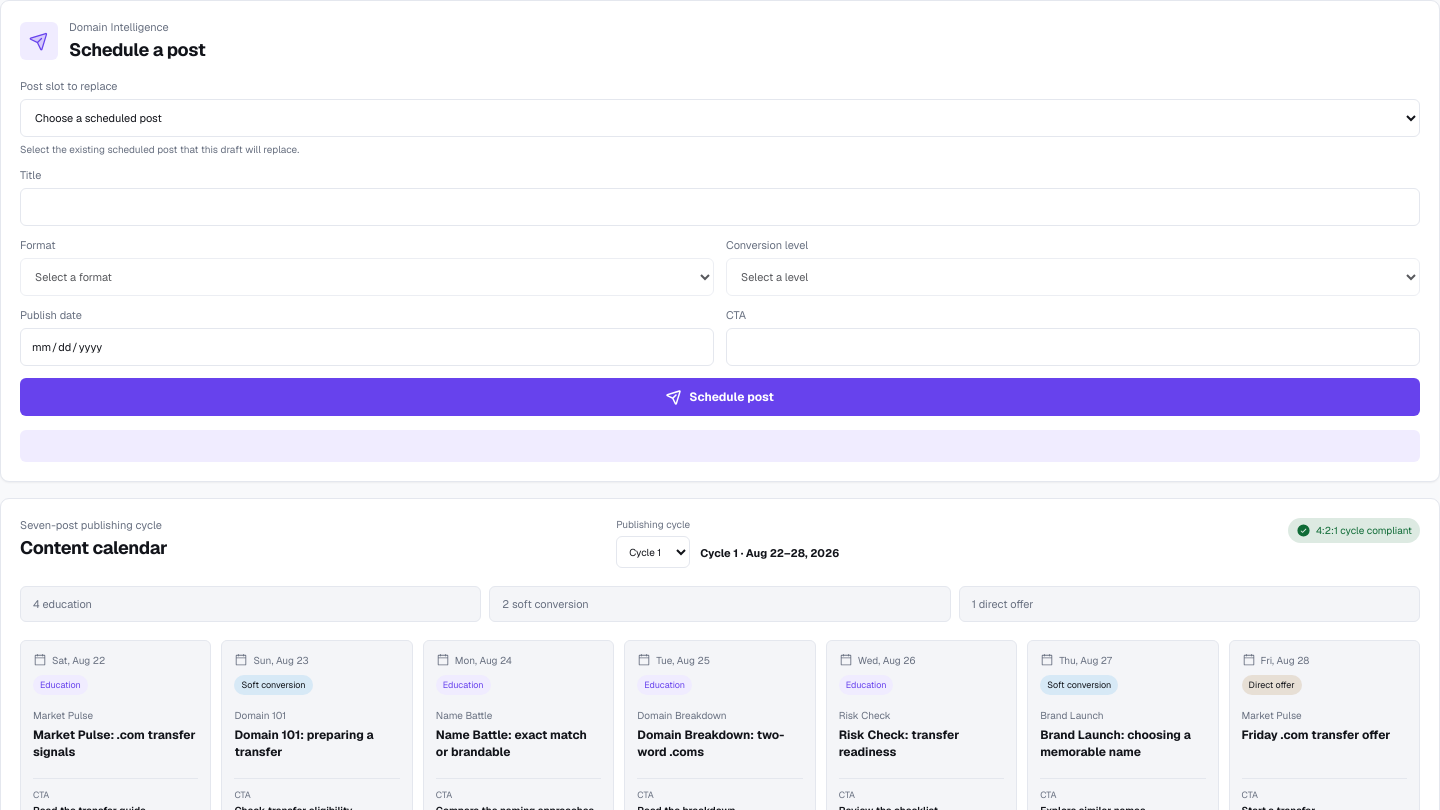
refreshes the calendar from provider state after an editor update
Select "Cycle 1 · Slot 1 · Aug 22, 2026 · Market Pulse: .com transfer signals" in the dropdown labelled "Post slot to replace" at x=720, y=118, box x1=20 y1=99 x2=1420 y2=137
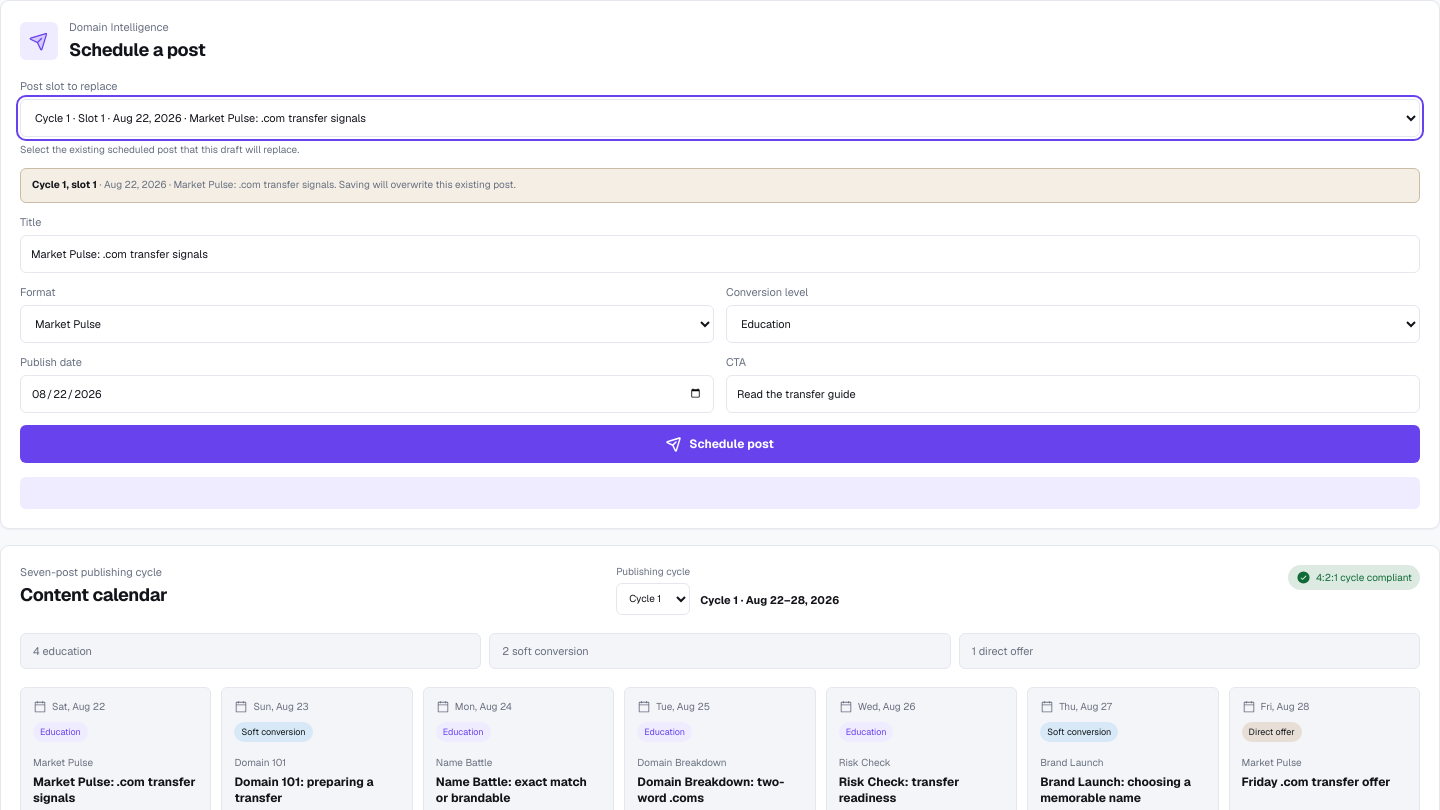
Replace the text in the field labelled "Title" with "Updated primary slot" at x=720, y=254, box x1=20 y1=234 x2=1420 y2=272
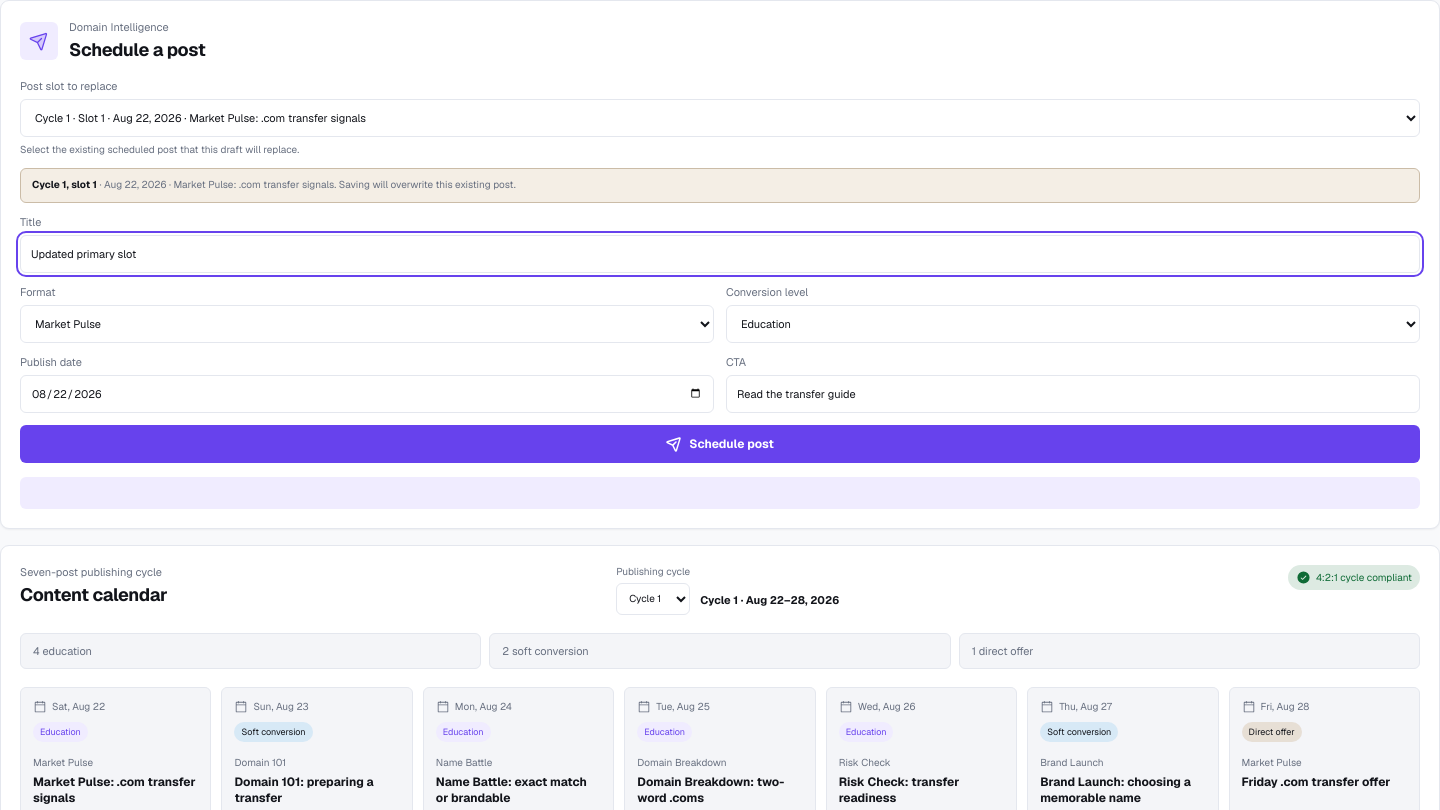
Click the button "Schedule post".
click(720, 444)  # box x1=20 y1=424 x2=1420 y2=462
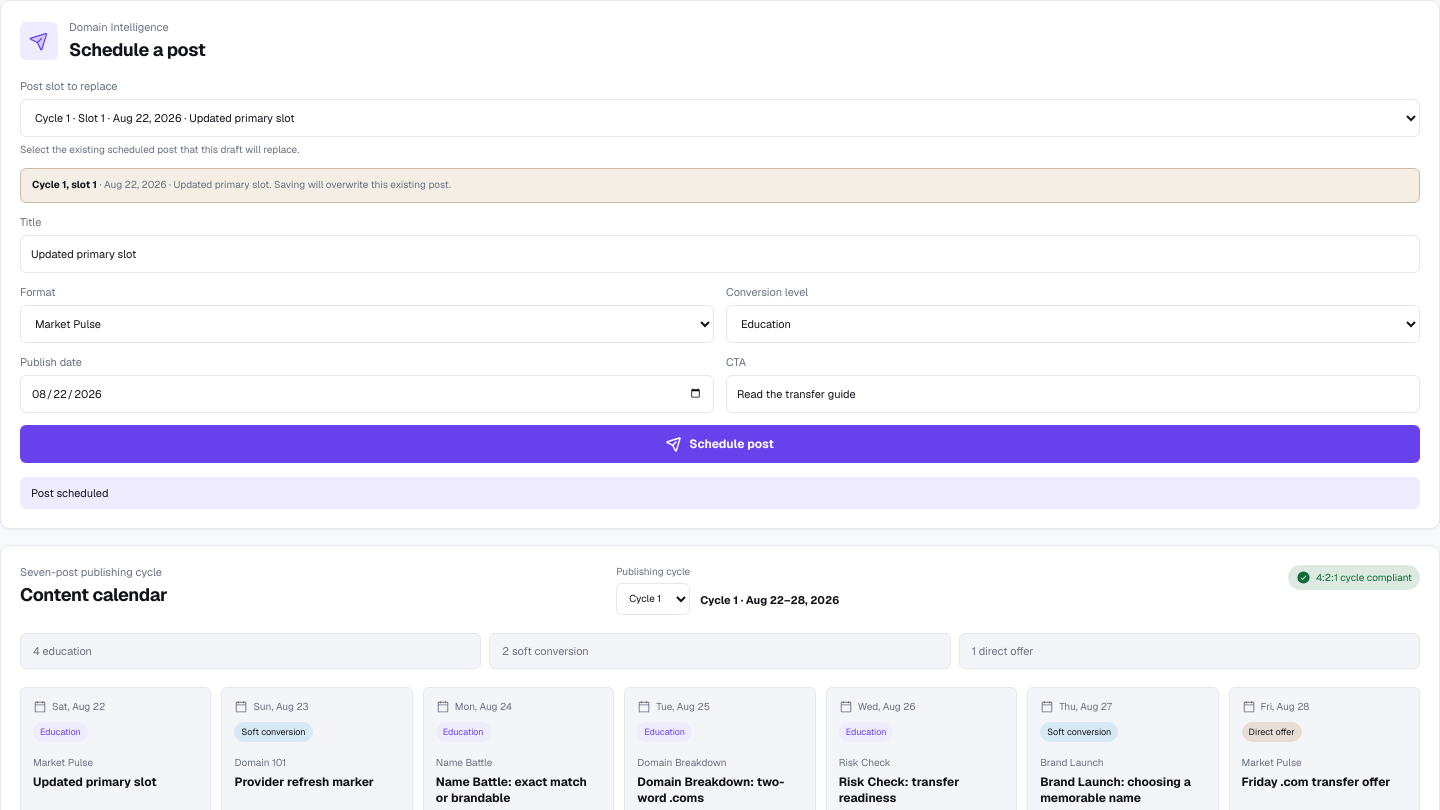
Result: the heading "Provider refresh marker" is shown at x1=234 y1=774 x2=374 y2=790
Result: the heading "Updated primary slot" is shown at x1=33 y1=774 x2=157 y2=790
